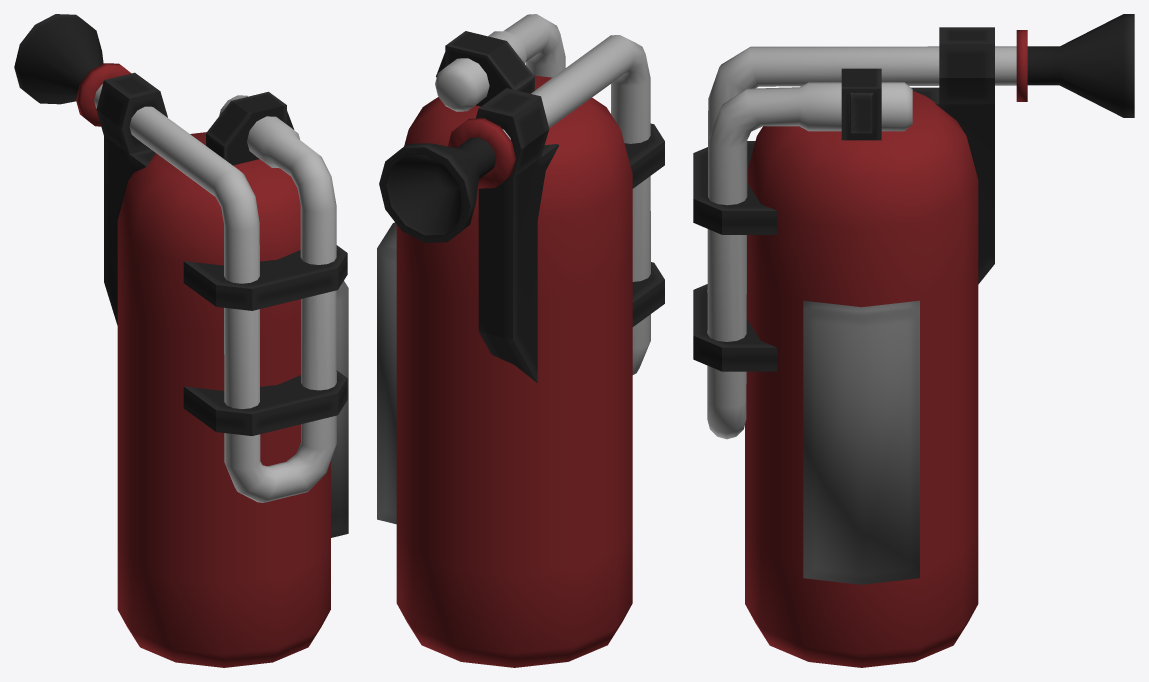
File: yangın_söndürüc.fbx
3 renders of one model, left to right at view 1: azimuth 30°, elevation 25°; view 2: azimuth 150°, elevation 25°; view 3: azimuth 270°, elevation 25°, orthographic. The views are drawn at different scales.
Visible parts, largest first — view 1: yangın söndücü; view 2: yangın söndücü; view 3: yangın söndücü.
Part boxes in pixels (x1=…): yangın söndücü: x1=14, y1=14, x2=348, y2=667; yangın söndücü: x1=377, y1=14, x2=664, y2=667; yangın söndücü: x1=693, y1=14, x2=1134, y2=667.
Bounding box in the file's own units: 33.71 × 84.58 × 58.25.
1 material, 1 textured.
